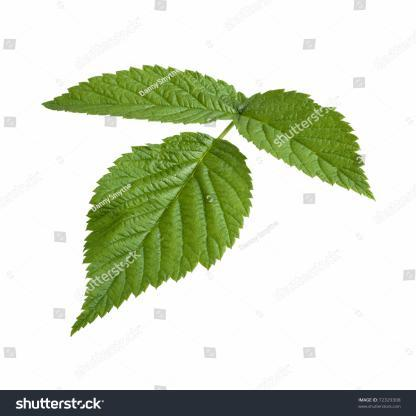Raspberry leaf: (82, 139, 253, 335), (233, 83, 376, 199), (32, 64, 249, 123)
